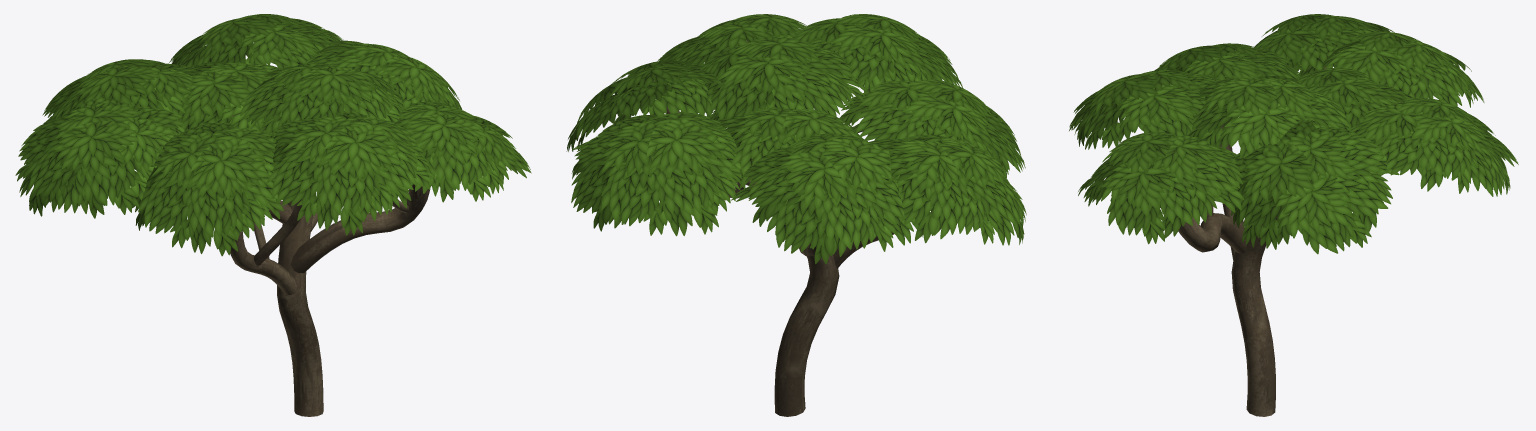
Rendered from Tree1.fbx.
The picture shows the model from 3 angles, left to right: view 1: azimuth 30°, elevation 25°; view 2: azimuth 150°, elevation 25°; view 3: azimuth 270°, elevation 25°; orthographic projection. The views are drawn at different scales.
Visible parts, largest first — view 1: TreeA_M_Leaves_0, TreeA_M_Tree_Wood_0; view 2: TreeA_M_Leaves_0, TreeA_M_Tree_Wood_0; view 3: TreeA_M_Leaves_0, TreeA_M_Tree_Wood_0.
Part boxes in pixels (<box>): TreeA_M_Leaves_0: <box>15,14,531,256</box>; TreeA_M_Tree_Wood_0: <box>230,115,430,416</box>; TreeA_M_Leaves_0: <box>566,14,1026,264</box>; TreeA_M_Tree_Wood_0: <box>654,41,893,416</box>; TreeA_M_Leaves_0: <box>1069,14,1518,254</box>; TreeA_M_Tree_Wood_0: <box>1178,67,1401,416</box>.
Size of the model in its own units: 87.9 by 66.87 by 83.59.
